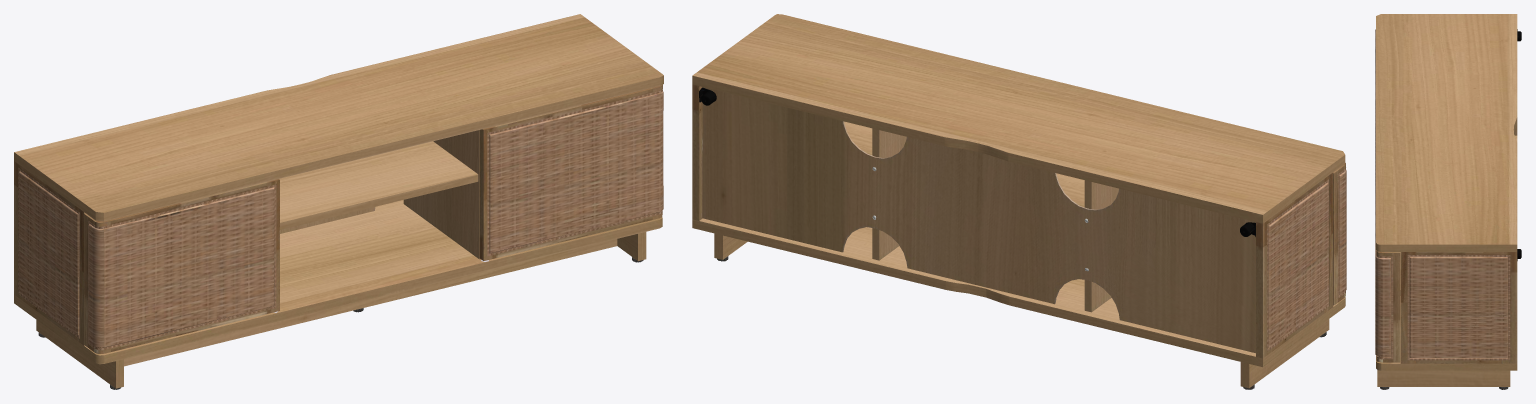
3 views of the same model, side by side, from view 1: azimuth 30°, elevation 25°; view 2: azimuth 150°, elevation 25°; view 3: azimuth 270°, elevation 25° (orthographic). The views are drawn at different scales.
Parts seen in each view (by area): view 1: 80574099; view 2: 80574099; view 3: 80574099.
Boxes of the visible parts, left/top/right/bottom form: 80574099: left=14, top=14, right=663, bottom=389; 80574099: left=692, top=14, right=1346, bottom=389; 80574099: left=1375, top=14, right=1521, bottom=389.
Size of the model in its own units: 1.58 by 0.4852 by 0.4211.
1 material, 1 textured.
